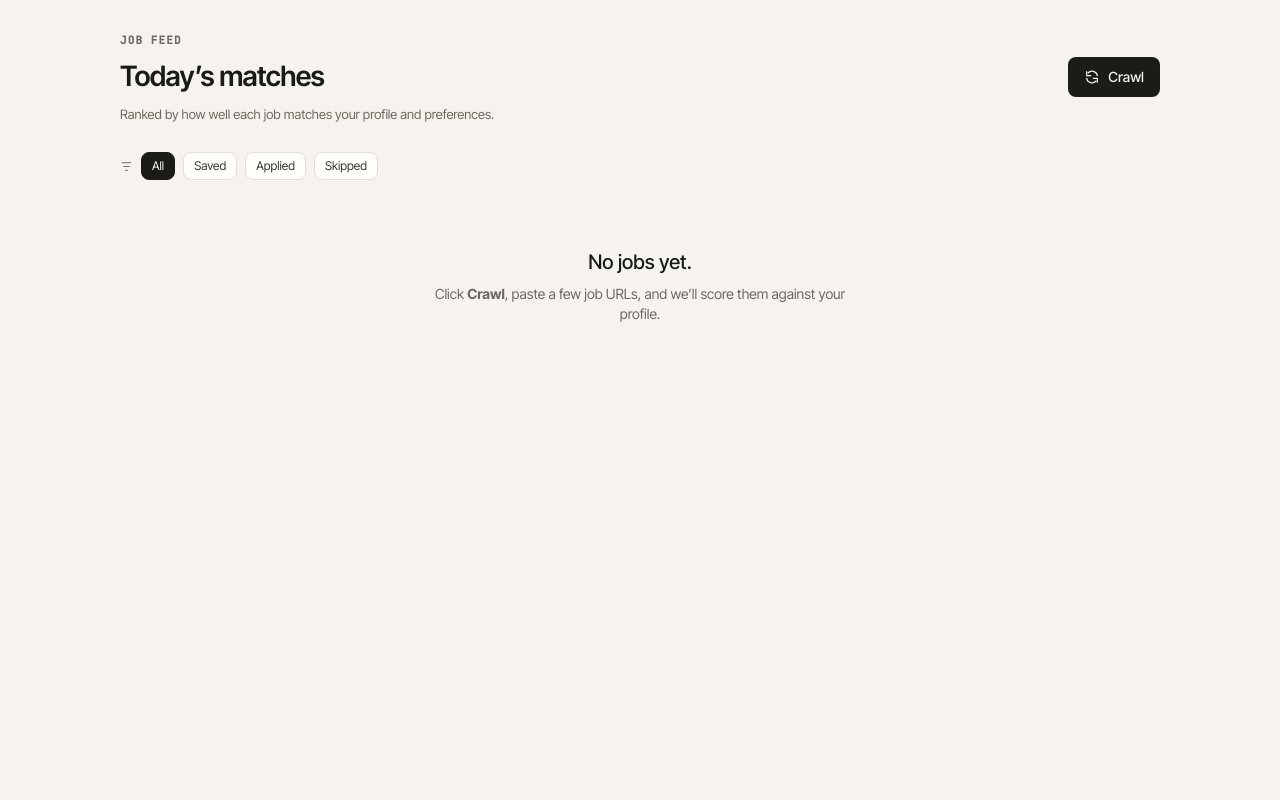
FeedScreen › crawl panel rejects an empty paste
Click the button "Crawl": [1114, 76] box top-left (1068, 56), bottom-right (1160, 96)
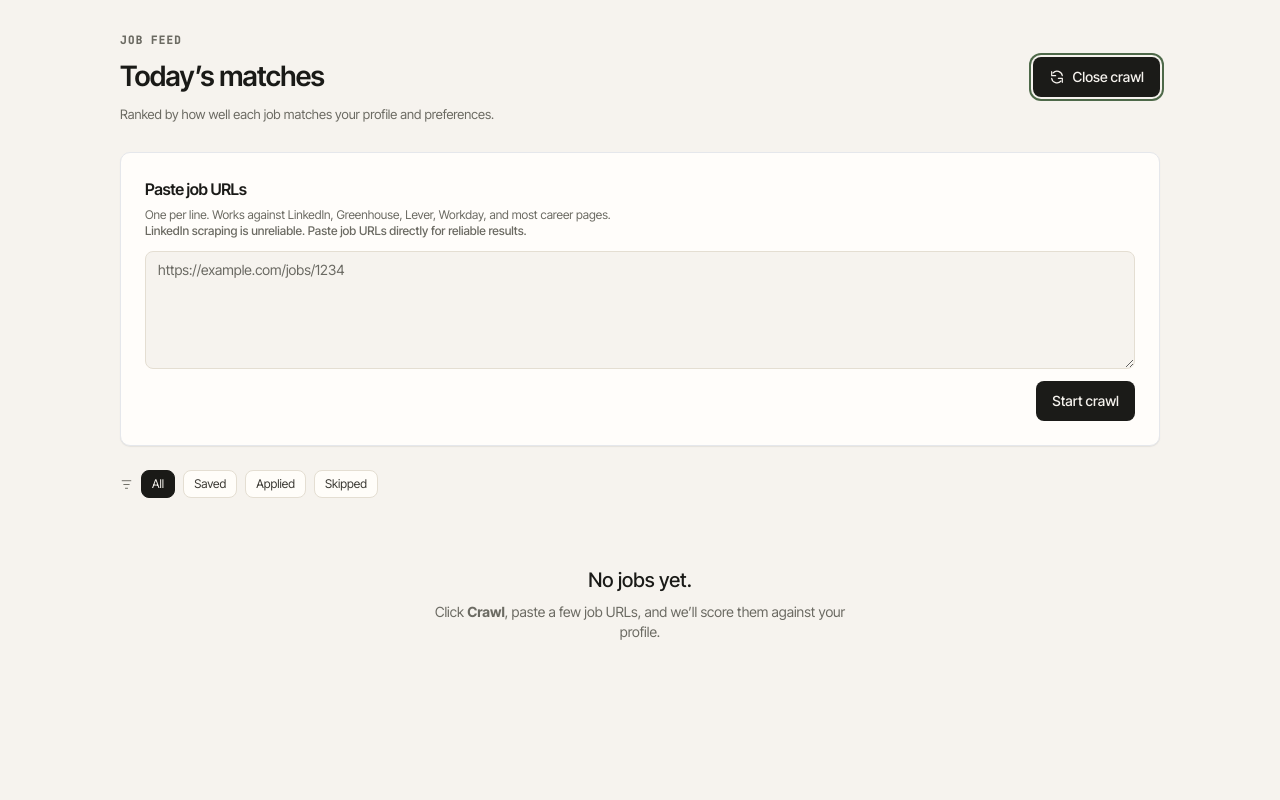
Expected: the text "LinkedIn scraping is unreliable" is shown, top-left (145, 223), bottom-right (527, 238)
Click the button "Start crawl": [1086, 401] box top-left (1036, 381), bottom-right (1135, 421)
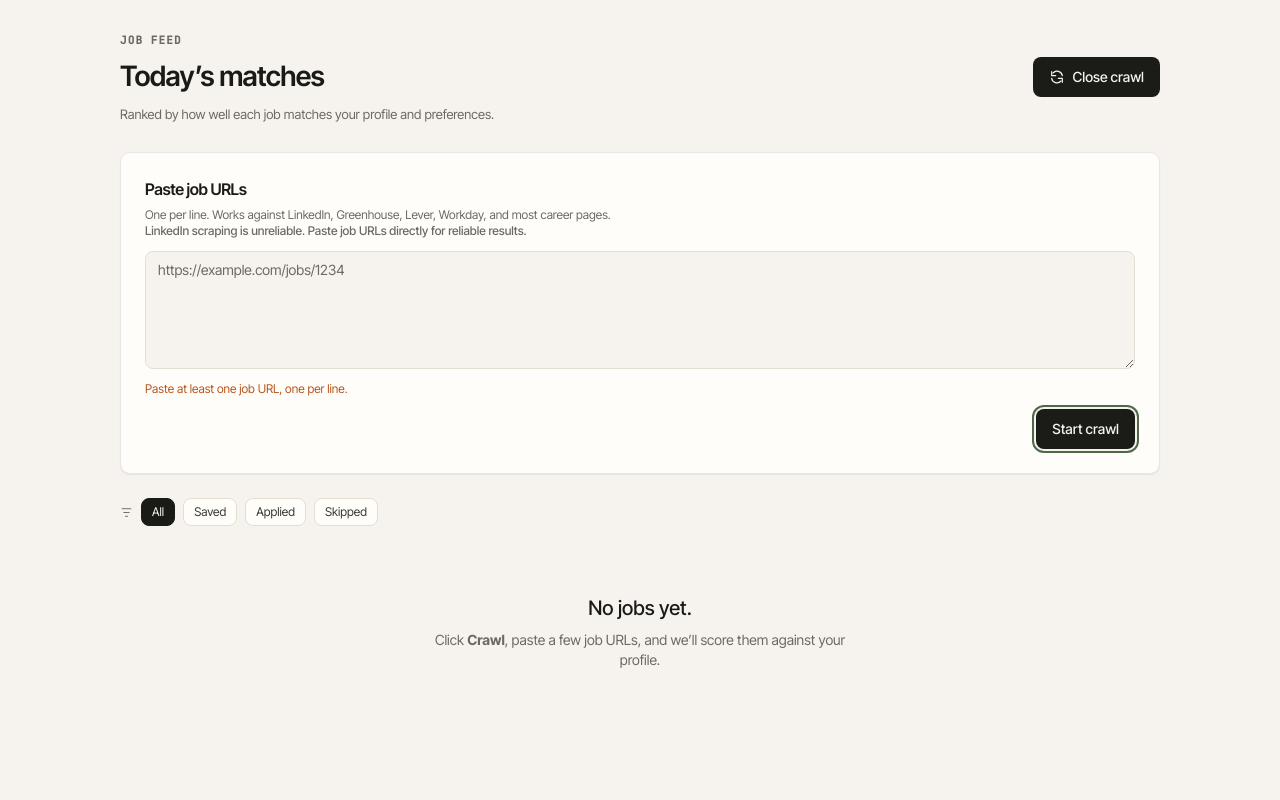
Expected: the text "Paste at least one job URL, one per line." is shown, top-left (145, 381), bottom-right (348, 396)
